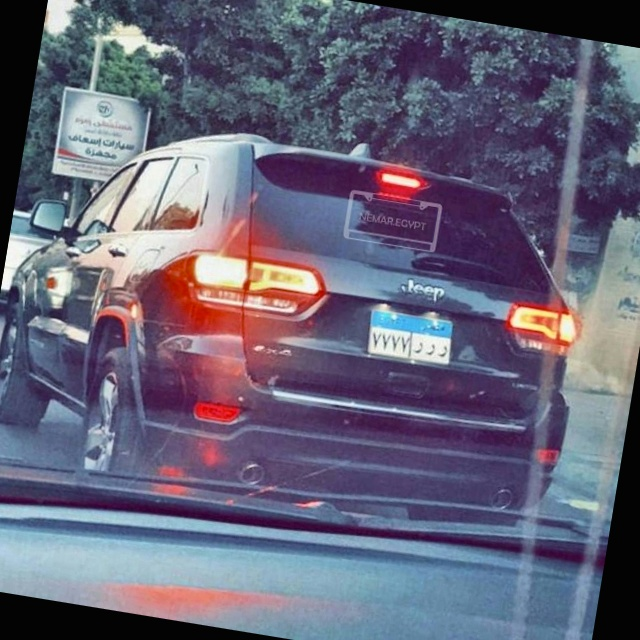License Plate: (362, 305, 462, 371)
